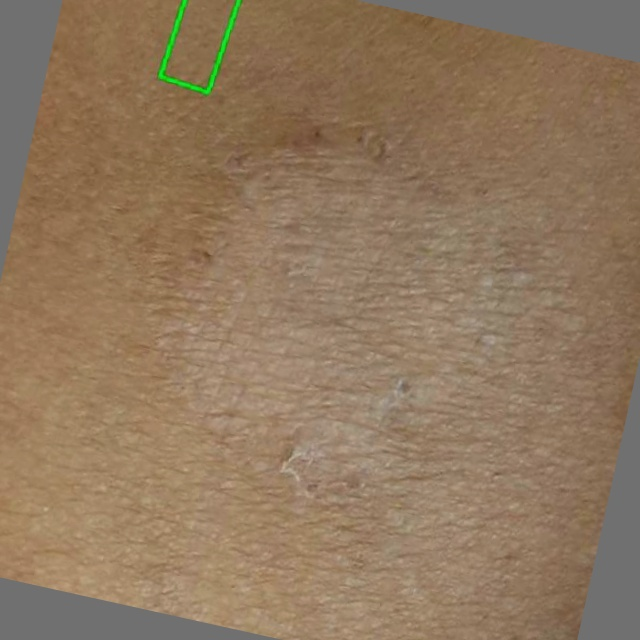Tinea Corporis: (159, 0, 237, 92)
